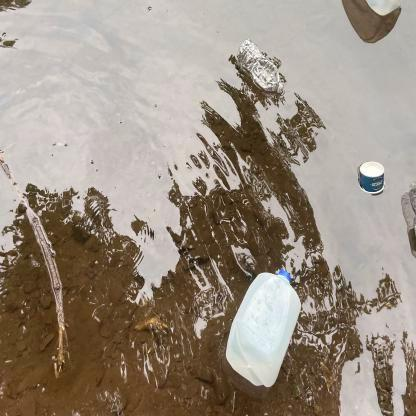Plastic: (223, 262, 304, 390), (235, 34, 286, 99), (403, 176, 416, 242), (360, 0, 405, 19)
Trash: (353, 154, 389, 198)
